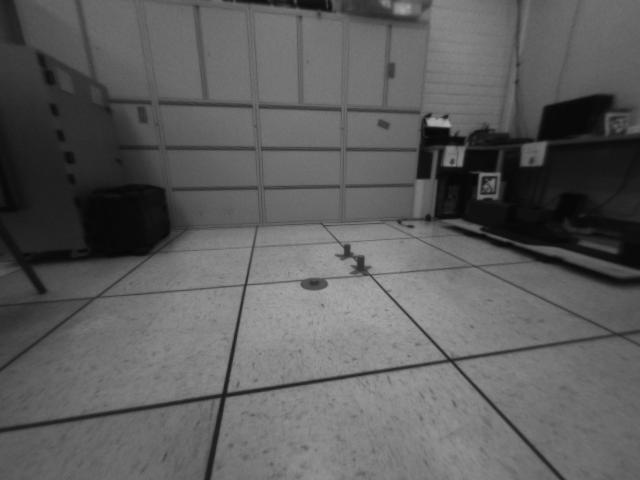X: (347, 253, 373, 276), (335, 243, 356, 261)
